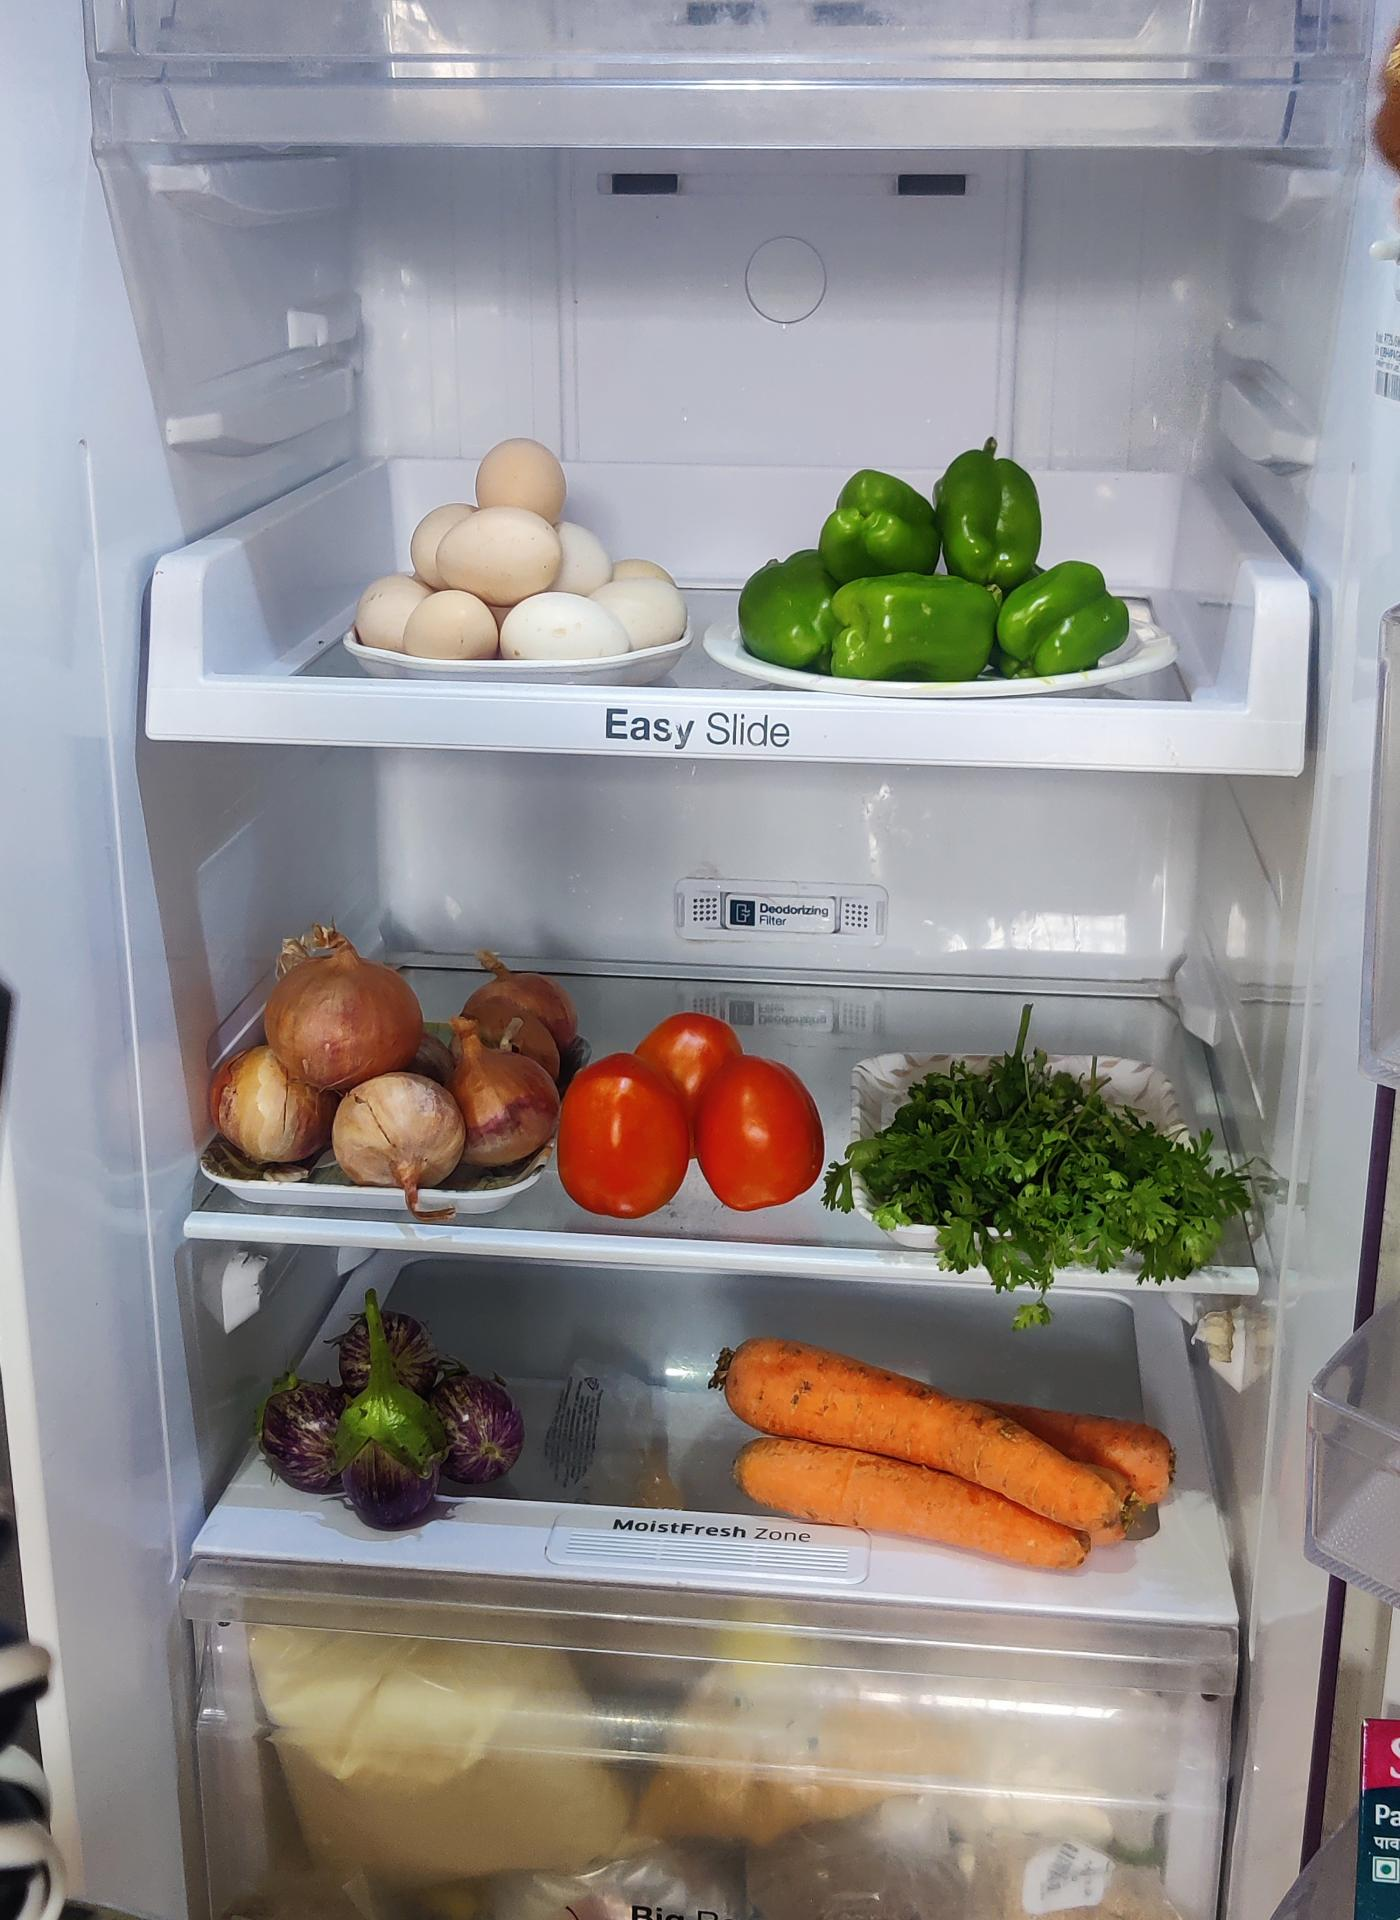brinjal: (262, 1316, 522, 1535)
capsicum: (738, 450, 1144, 686)
carrots: (710, 1339, 1178, 1576)
coriander: (844, 1058, 1255, 1292)
egg: (343, 429, 681, 665)
onion: (213, 926, 587, 1190), (1375, 0, 1400, 253)
tomato: (558, 1012, 823, 1216)
